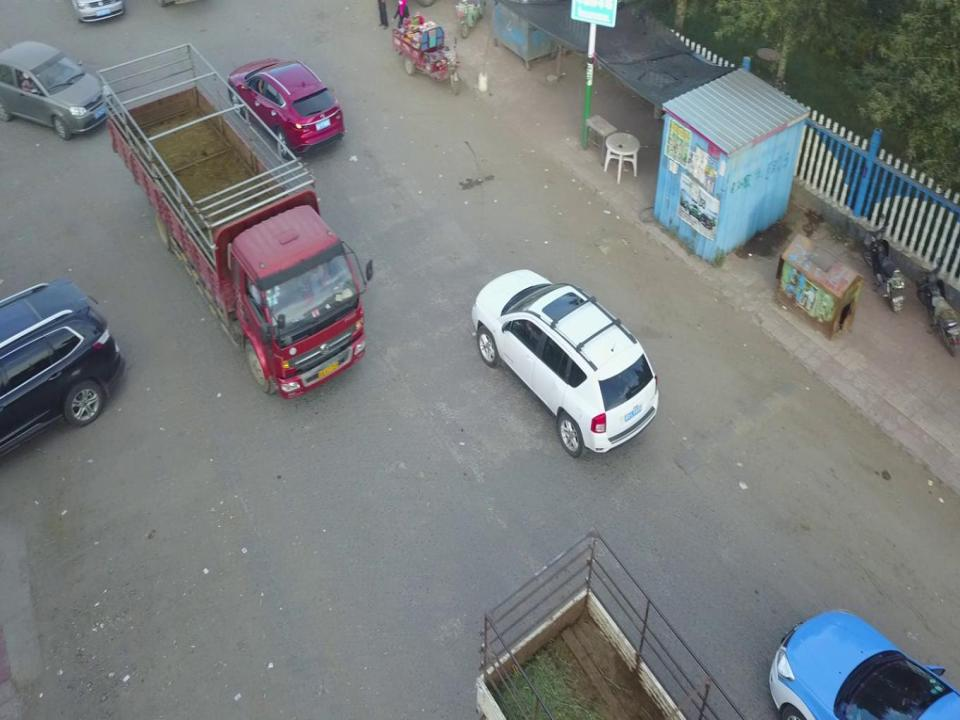car: (470, 266, 662, 460), (0, 276, 127, 472), (766, 609, 960, 720), (227, 56, 345, 160), (0, 39, 119, 141)
truck: (95, 38, 376, 402)
